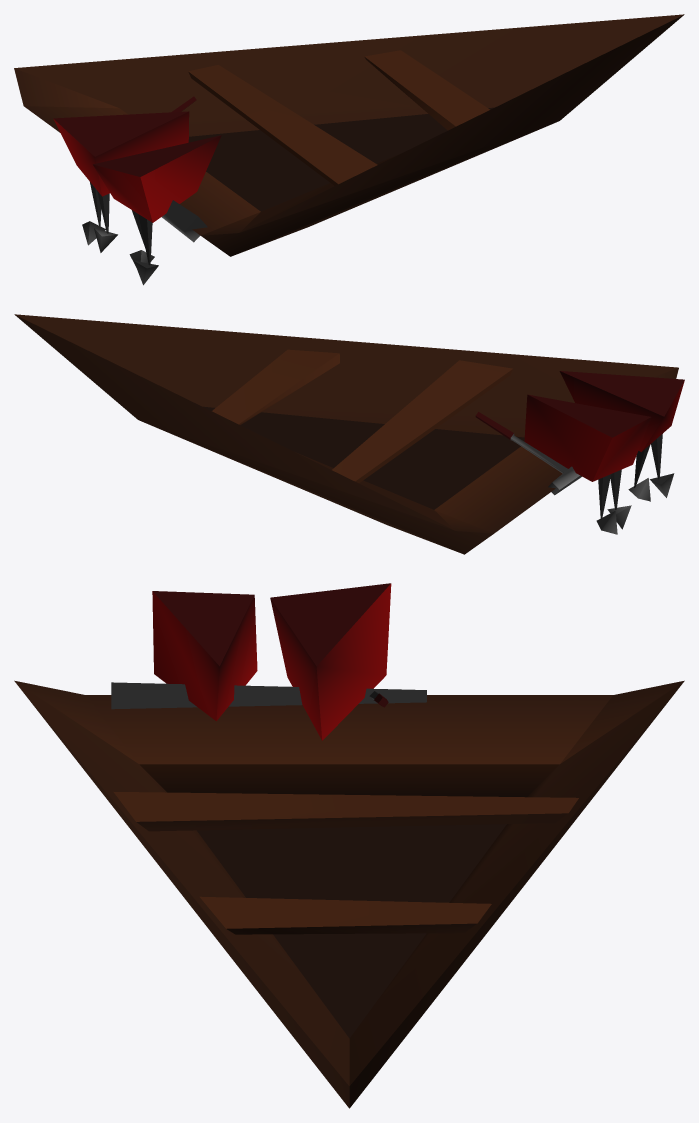
The model's file is c_boat_raft_aa.fbx.
3 views of the same model, one above another, from view 1: azimuth 30°, elevation 25°; view 2: azimuth 150°, elevation 25°; view 3: azimuth 270°, elevation 25° (orthographic). The views are drawn at different scales.
Parts seen in each view (by area): view 1: c_boat_raft_aa; view 2: c_boat_raft_aa; view 3: c_boat_raft_aa.
Part boxes in pixels (left/top/right/bottom): c_boat_raft_aa: left=14, top=14, right=684, bottom=285; c_boat_raft_aa: left=14, top=314, right=684, bottom=554; c_boat_raft_aa: left=14, top=583, right=684, bottom=1108.
Bounding box in the file's own units: 7.66 × 1.85 × 4.79.
